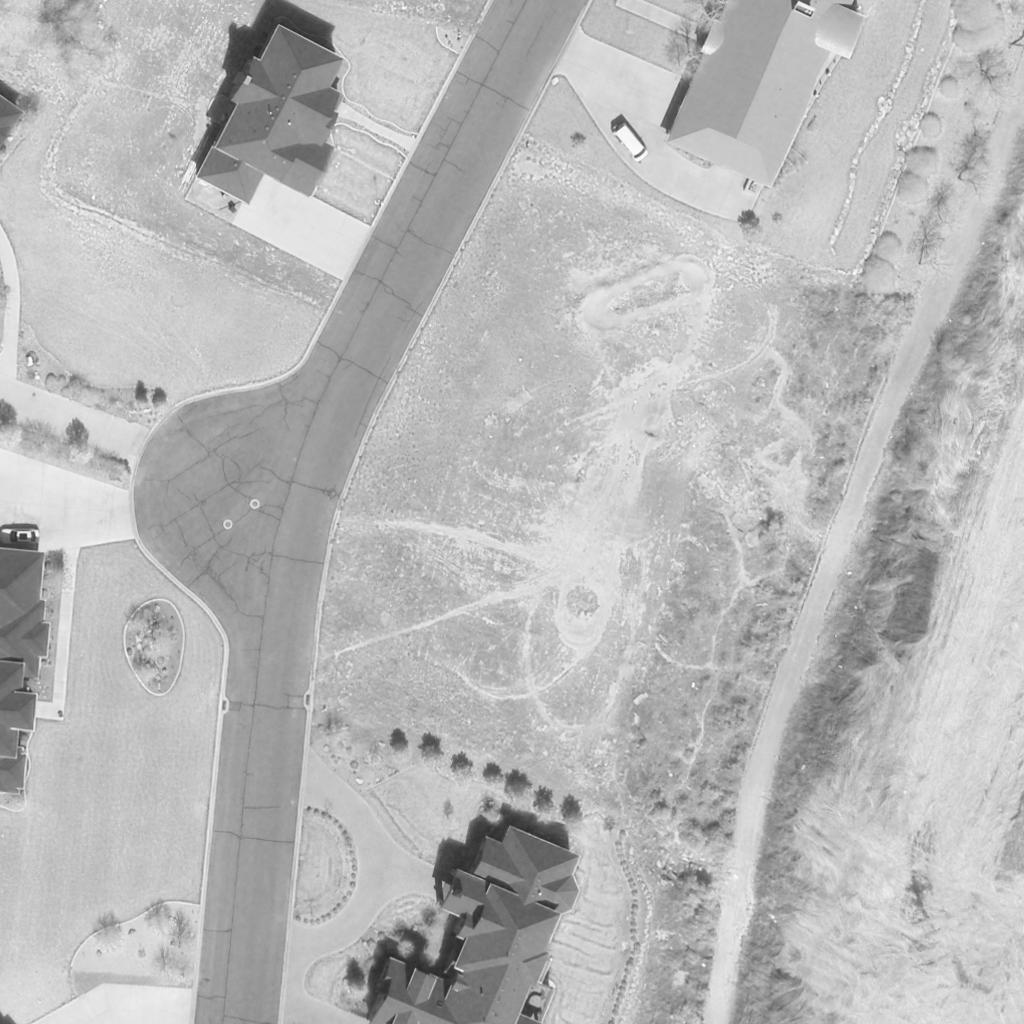vehicle: (613, 124, 649, 164), (1, 528, 39, 544)
